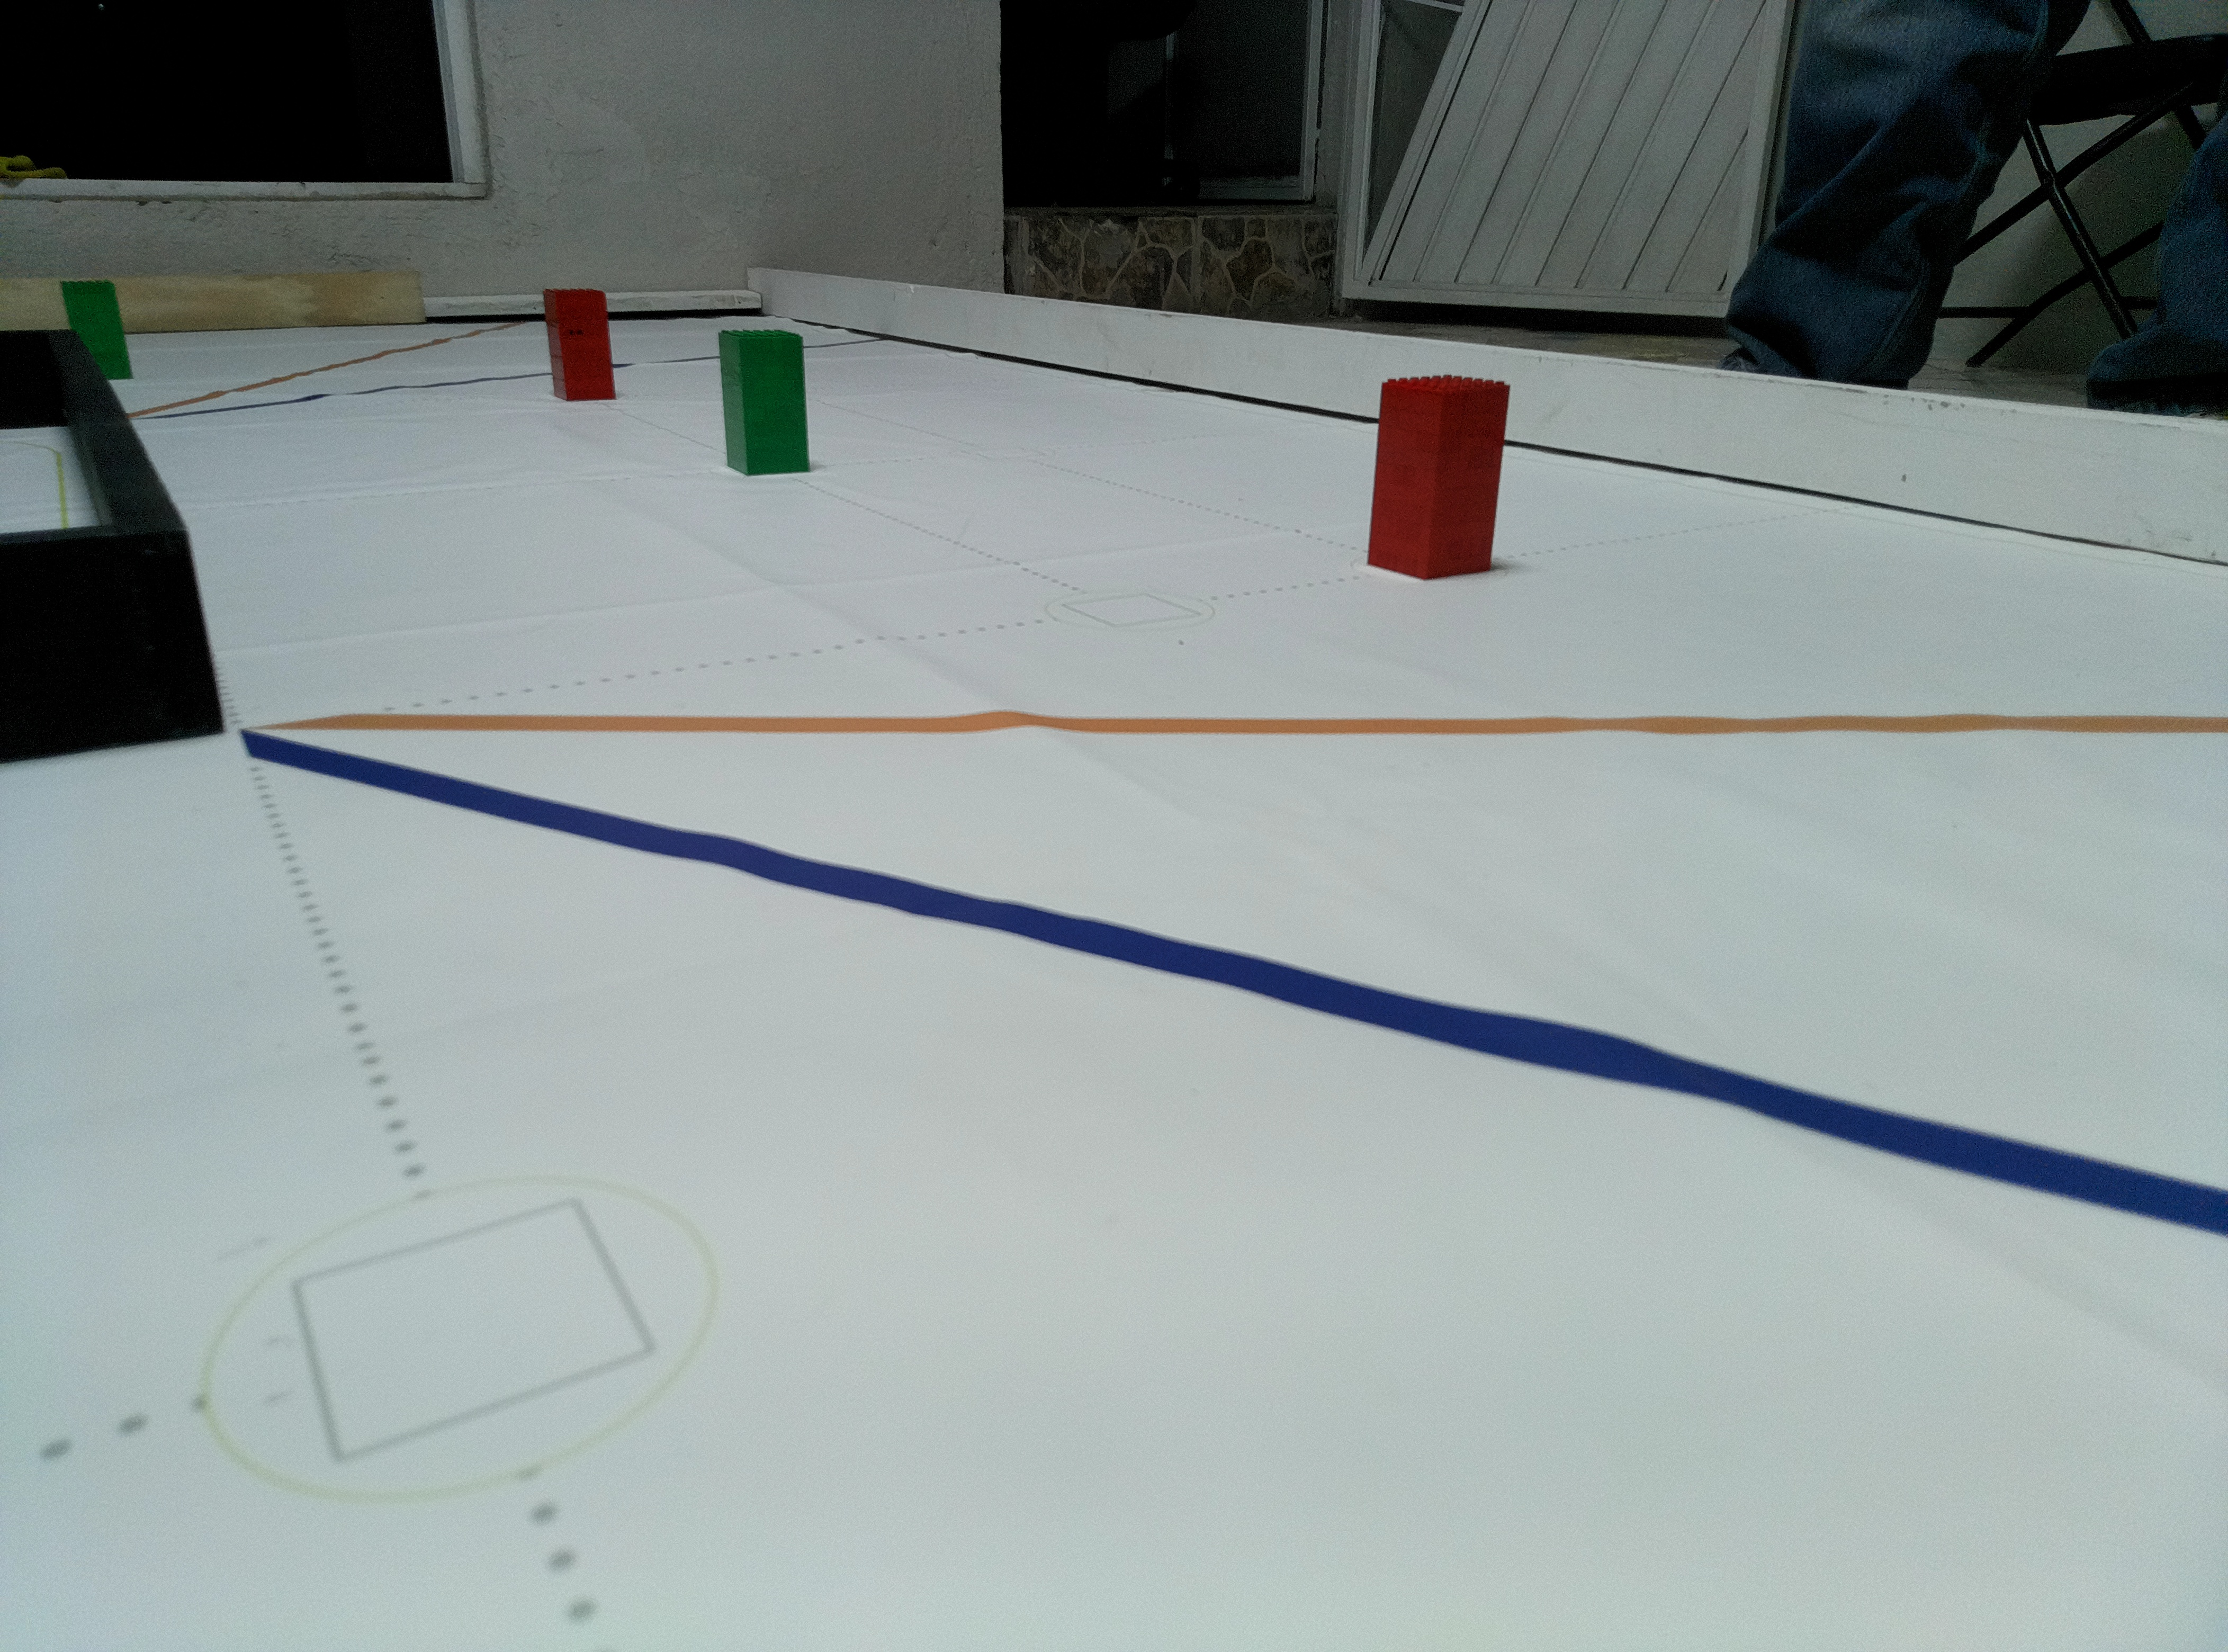greenbox: (718, 327, 811, 481), (56, 277, 145, 376)
redbox: (1359, 373, 1507, 579), (536, 281, 619, 401)
